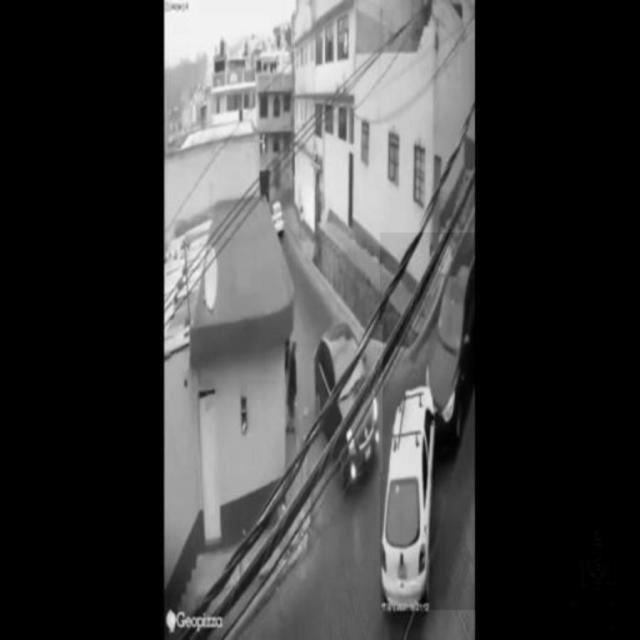accident: (380, 233, 478, 610)
vehicle: (310, 326, 383, 473)
